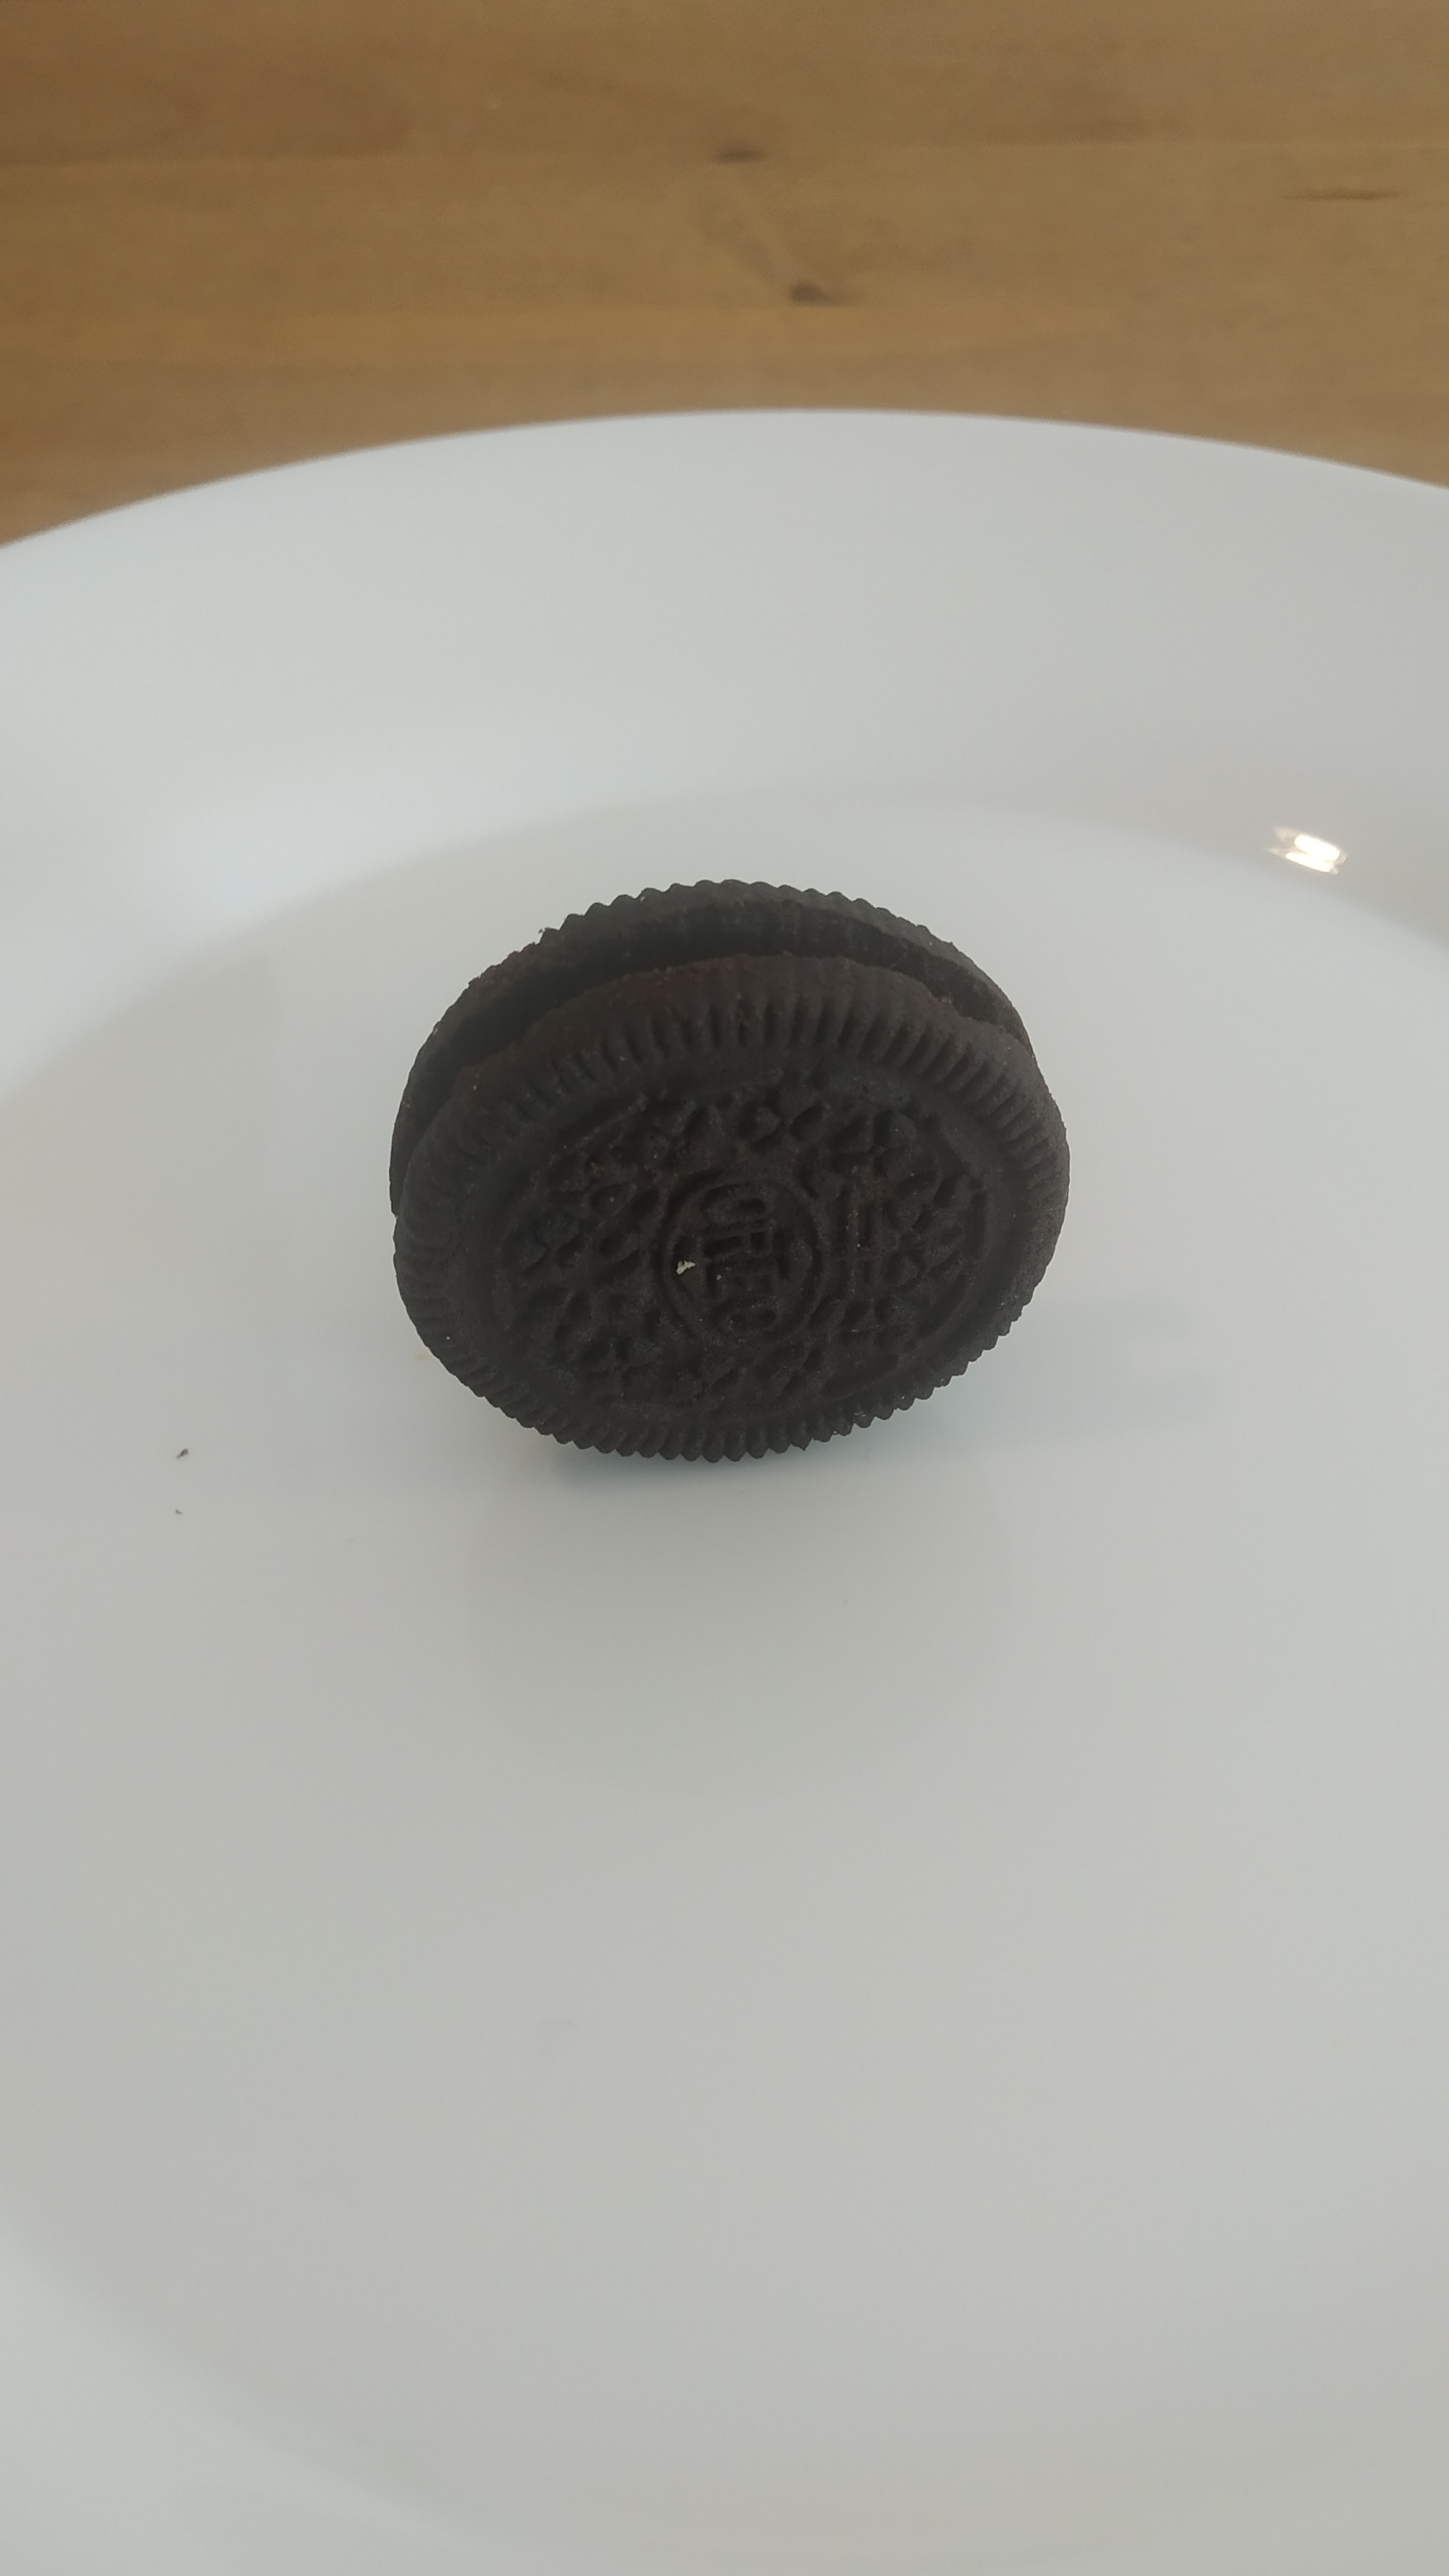oreo: (387, 878, 1070, 1465)
